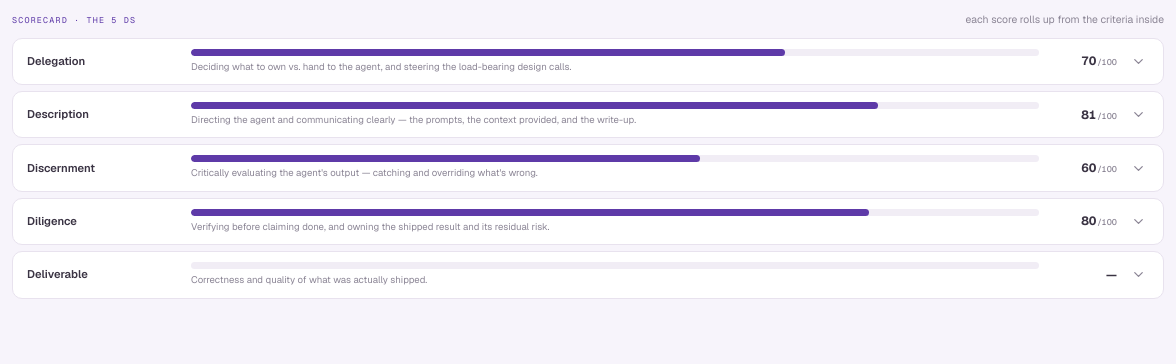
Test: AssessmentScorecard › shows an ungraded axis as "—" rather than borrowing a heuristic
The width and height of the screenshot is (1176, 364).
Expected: the button "Deliverable" does not show "/100"
Click the button "Deliverable" at x=57, y=274, box left=13, top=252, right=1163, bottom=298
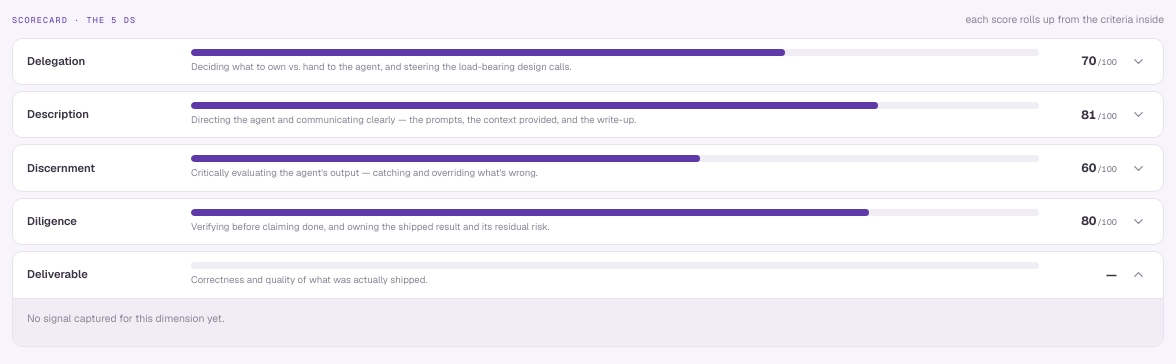
Expected: the text "No signal captured for this dimension yet." is shown, left=27, top=312, right=224, bottom=325
